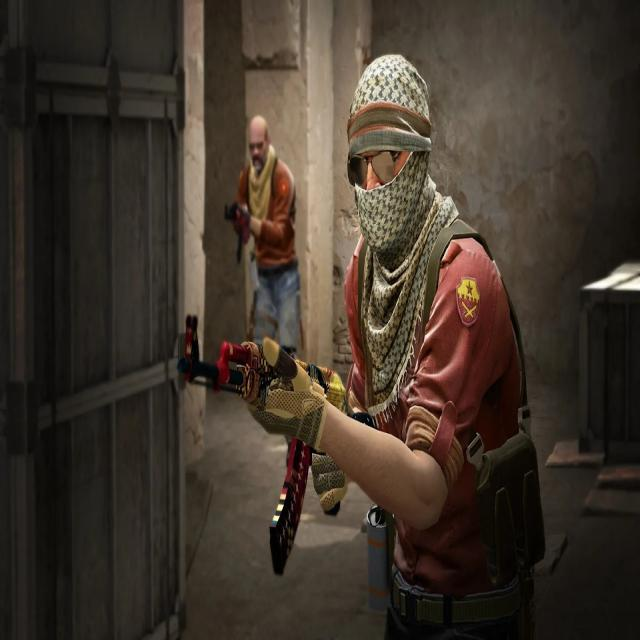ak: (178, 314, 354, 574)
